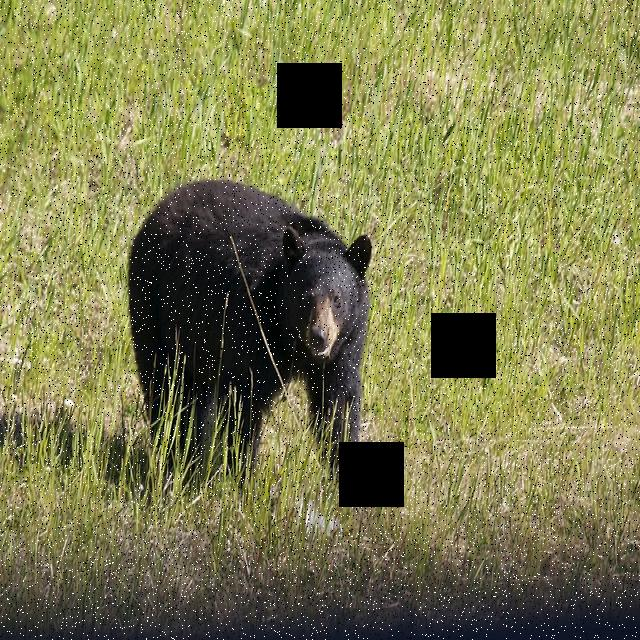Bear: (124, 172, 380, 500)
